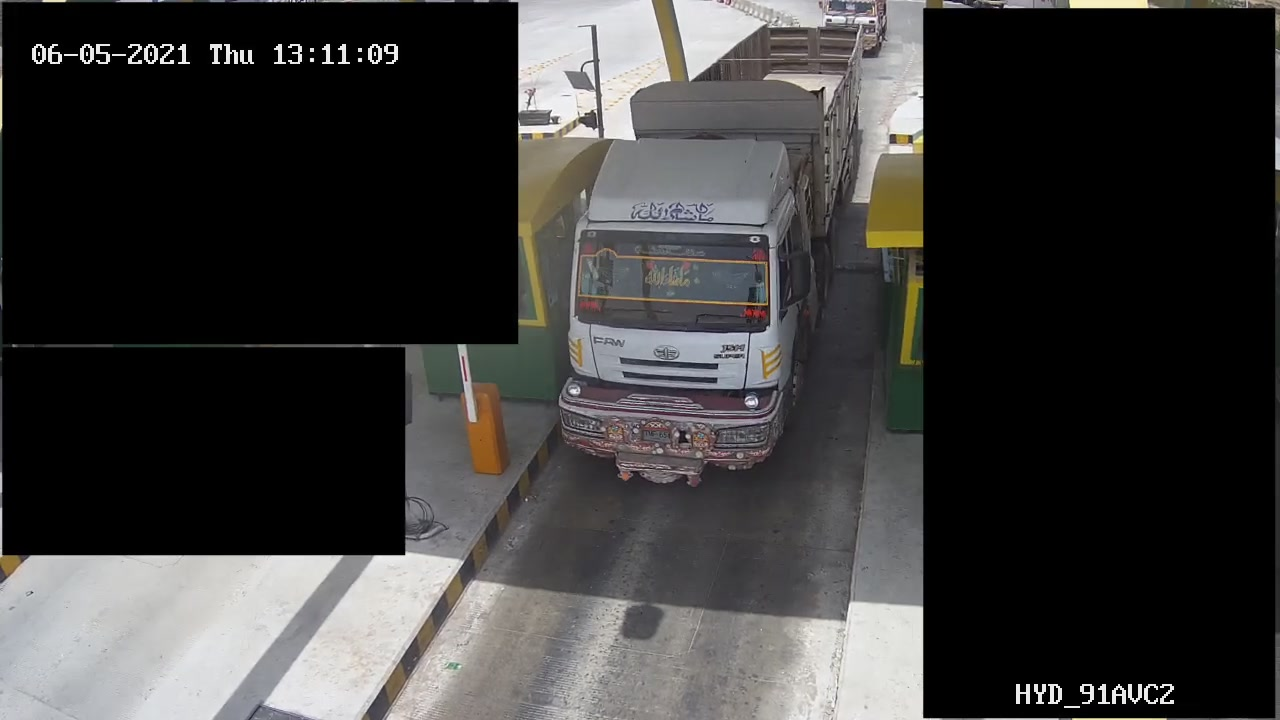F6: (562, 16, 875, 477)
